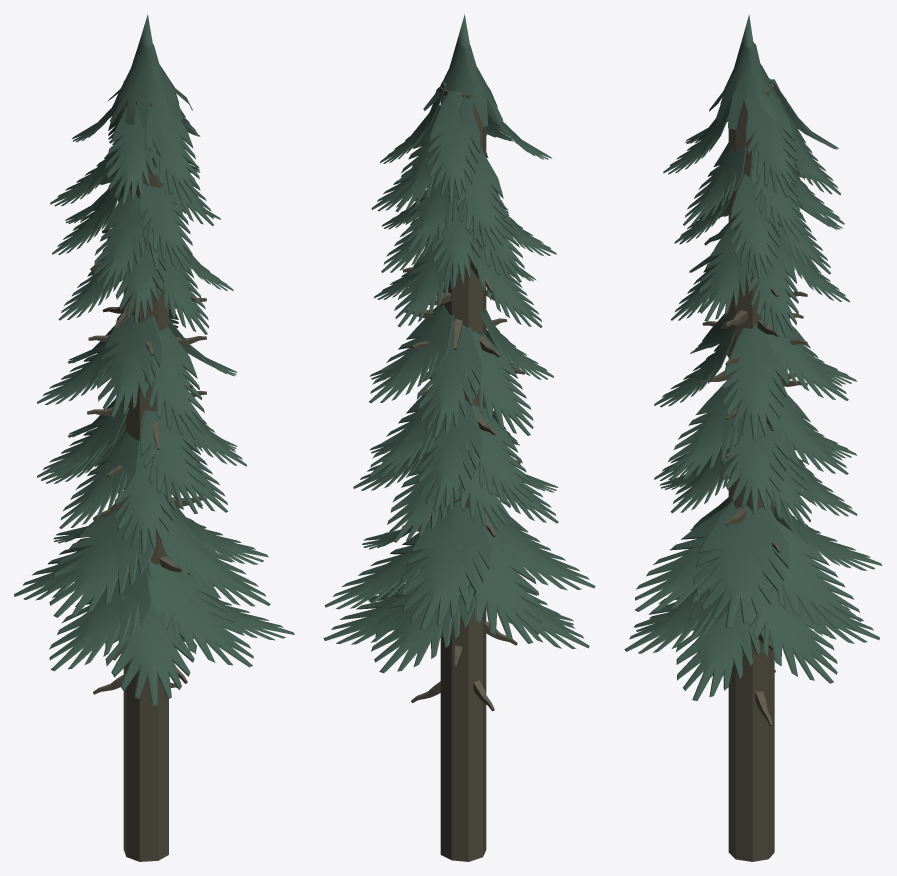
The model's file is Medium_PineTree.fbx.
The picture shows the model from 3 angles, left to right: view 1: azimuth 30°, elevation 25°; view 2: azimuth 150°, elevation 25°; view 3: azimuth 270°, elevation 25°; orthographic projection.
Visible parts, largest first — view 1: polySurface1879, polySurface1838; view 2: polySurface1879, polySurface1838; view 3: polySurface1879, polySurface1838.
Boxes of the visible parts, <box> form: polySurface1879: <box>14,14,294,705</box>; polySurface1838: <box>87,80,206,861</box>; polySurface1879: <box>323,14,595,673</box>; polySurface1838: <box>402,83,524,861</box>; polySurface1879: <box>624,14,882,700</box>; polySurface1838: <box>699,78,807,861</box>.
Bounding box in the file's own units: 25.99 × 89.64 × 25.04.
